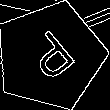P_SE: (19, 25, 82, 87)
